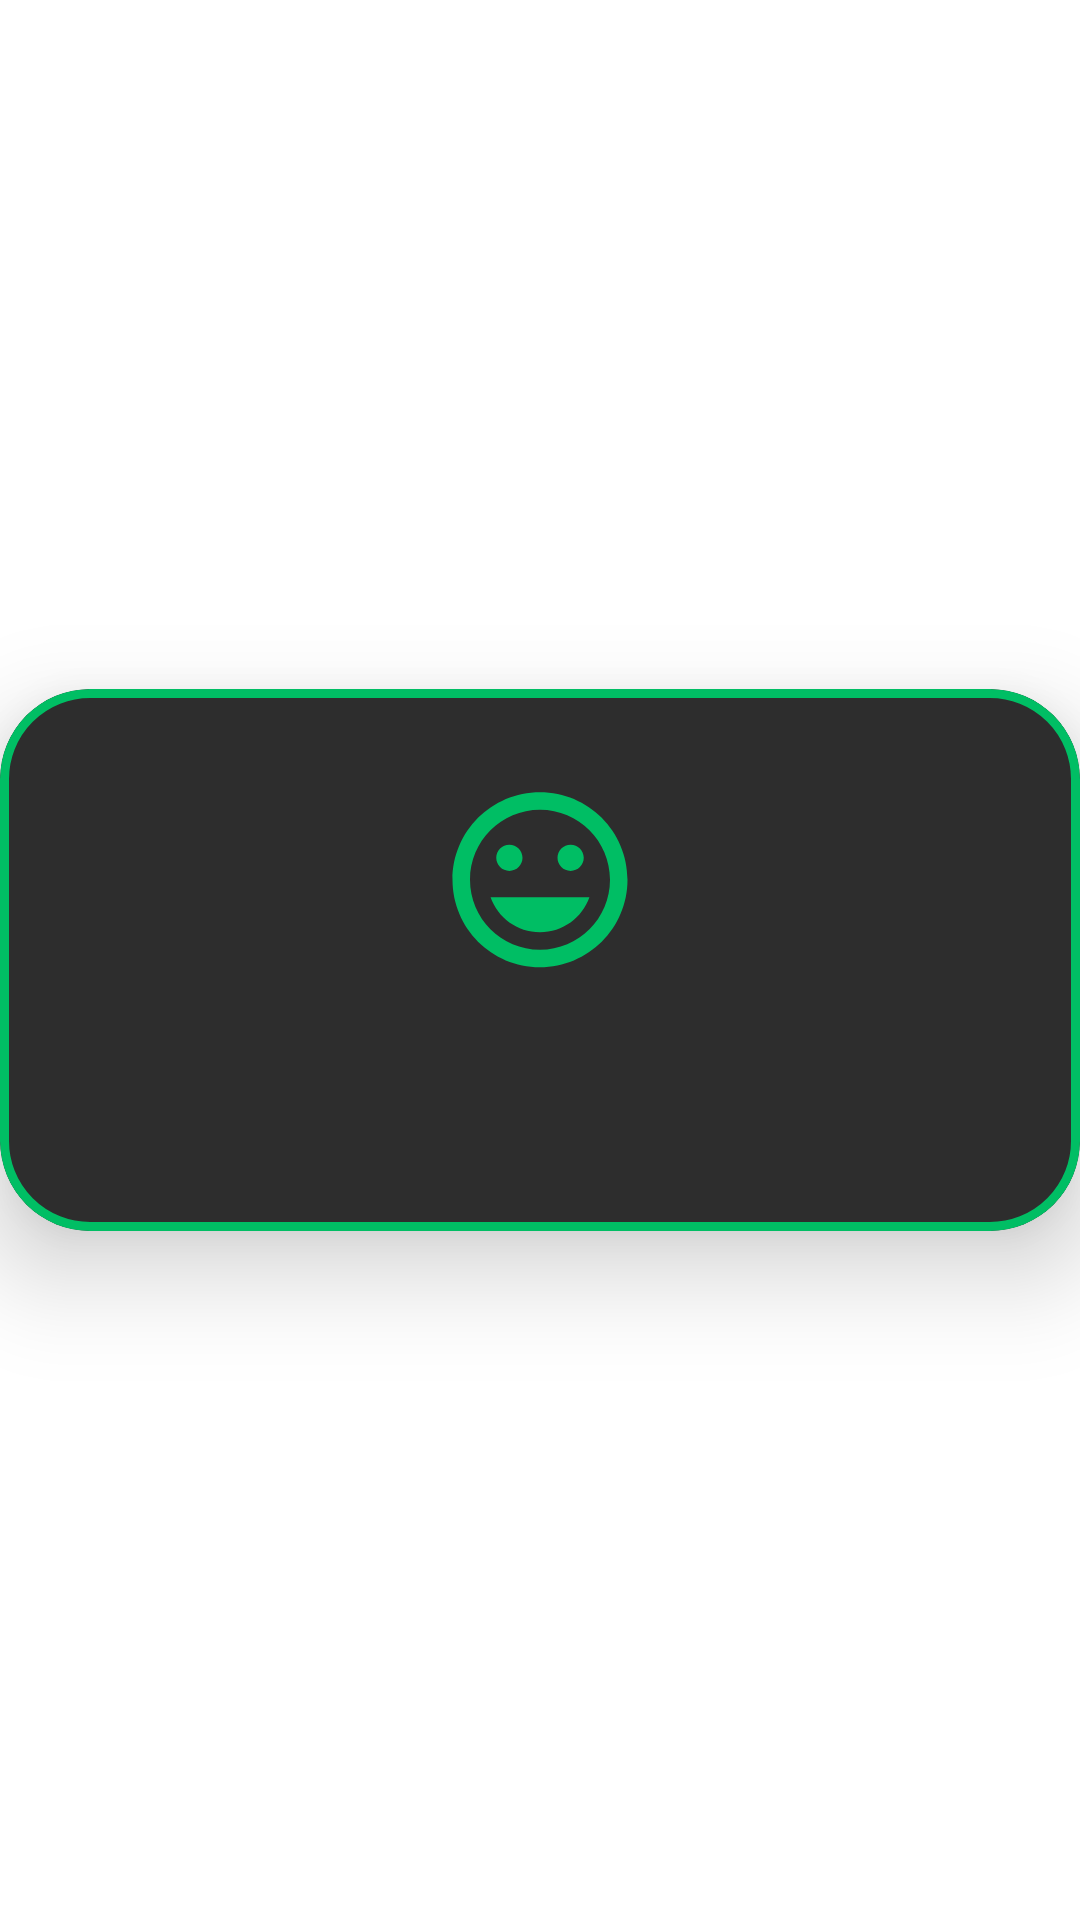

Icon click points for this 1080*1920 phone screenshot, format point (x, y):
smile: point (540, 880)
